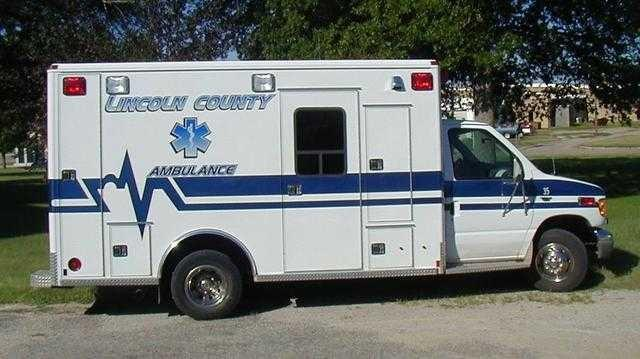car: (31, 58, 613, 320)
